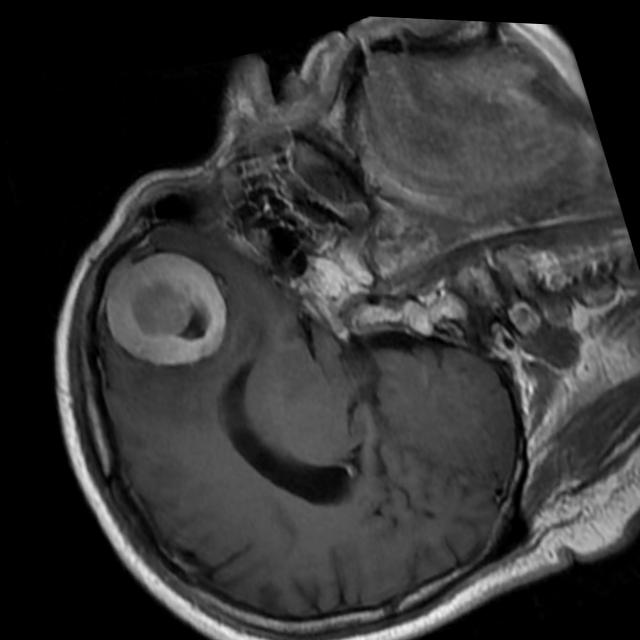Meningioma: (88, 234, 244, 385)
